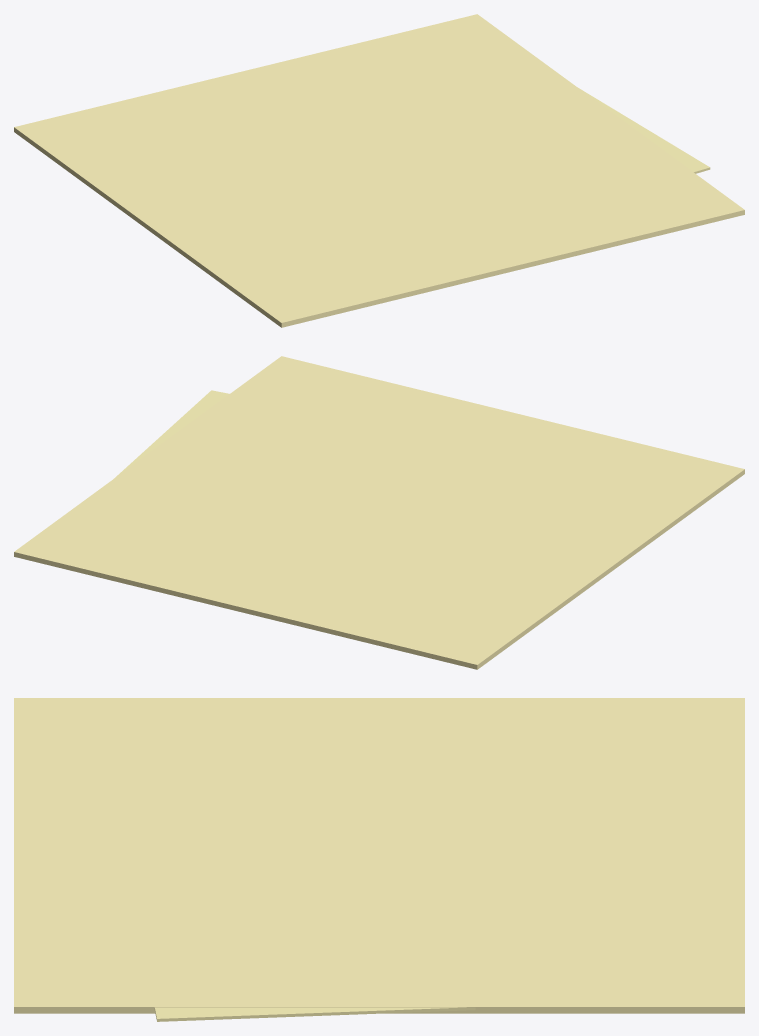
File: road_construction_milled_overlay.glb
The picture shows the model from 3 angles, top to bottom: view 1: azimuth 30°, elevation 25°; view 2: azimuth 150°, elevation 25°; view 3: azimuth 270°, elevation 25°; orthographic projection. The views are drawn at different scales.
Visible parts, largest first — view 1: base, staging_windrow; view 2: base, staging_windrow; view 3: base, staging_windrow, temporary_shoulder.
Part boxes in pixels (left/top/right/bottom): base: left=14, top=14, right=744, bottom=327; staging_windrow: left=579, top=88, right=710, bottom=173; base: left=14, top=356, right=744, bottom=669; staging_windrow: left=115, top=390, right=229, bottom=477; base: left=14, top=698, right=744, bottom=1013; staging_windrow: left=154, top=1007, right=475, bottom=1021; temporary_shoulder: left=14, top=1009, right=744, bottom=1013.
Bounding box in the file's own units: 4.15 × 0.04 × 4.
